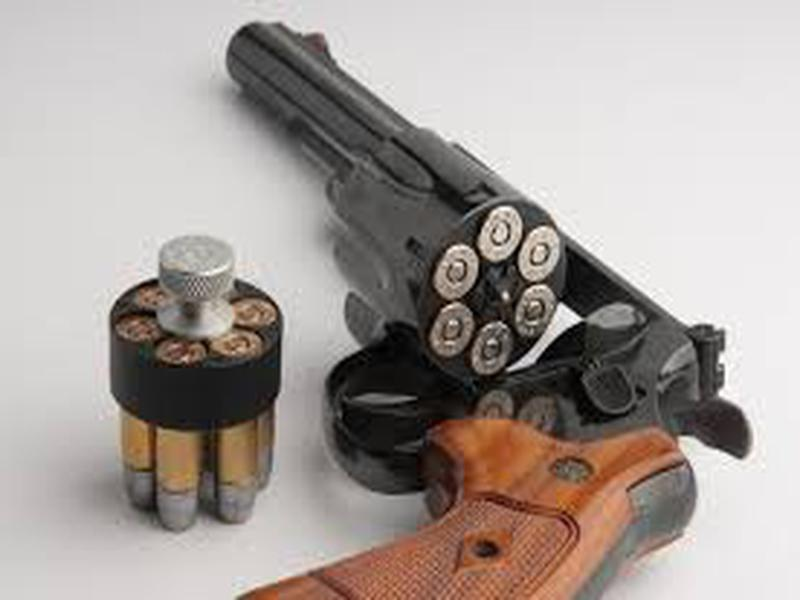gun: (108, 9, 761, 599)
